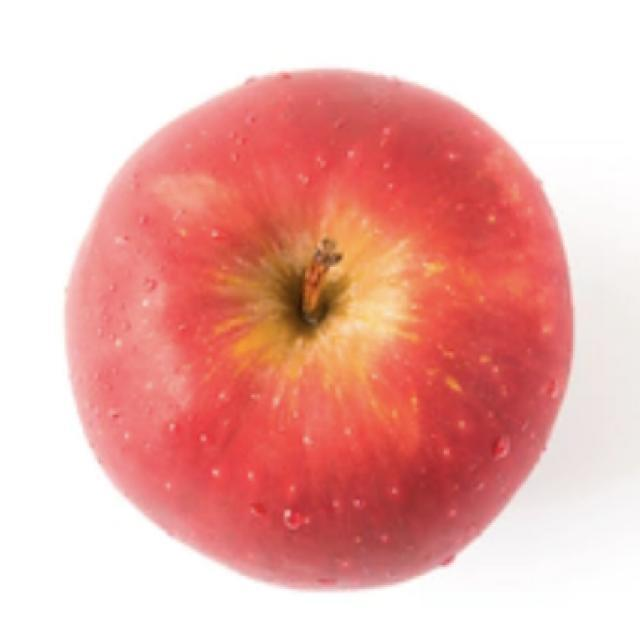Fresh Apple: (62, 63, 580, 595)
